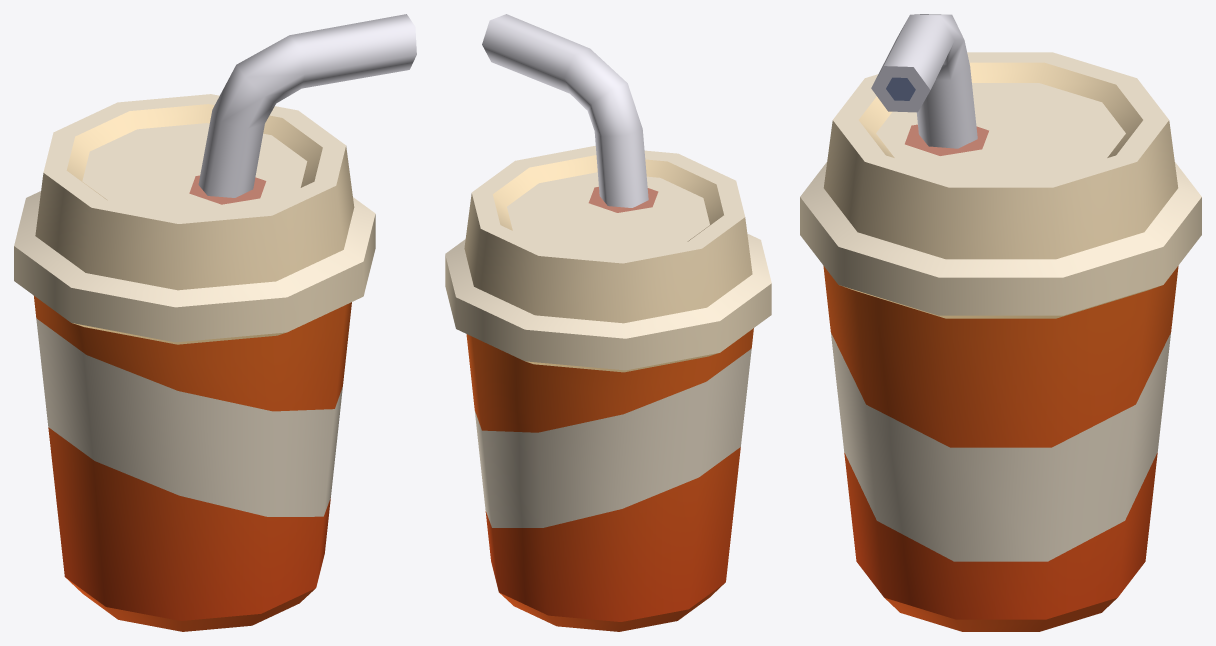
Rendered from Juice.fbx.
The picture shows the model from 3 angles, left to right: view 1: azimuth 30°, elevation 25°; view 2: azimuth 150°, elevation 25°; view 3: azimuth 270°, elevation 25°; orthographic projection. The views are drawn at different scales.
Parts seen in each view (by area): view 1: Juice; view 2: Juice; view 3: Juice.
Boxes of the visible parts, <box> form: Juice: <box>14,14,416,631</box>; Juice: <box>445,14,771,631</box>; Juice: <box>800,14,1201,631</box>.
Size of the model in its own units: 2.07 by 3.39 by 2.04.
